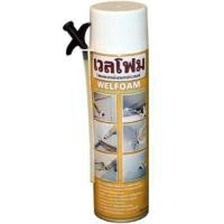aerosol_cans: (83, 0, 156, 222)
